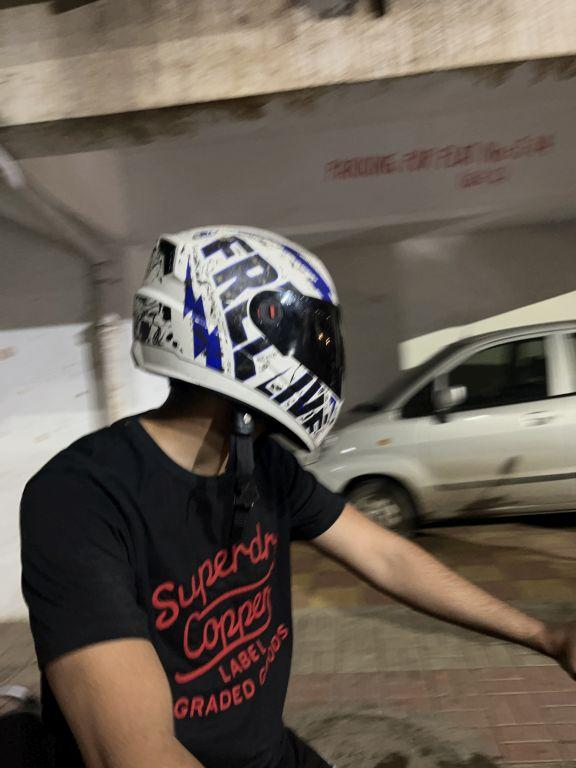helmet: (109, 212, 353, 477)
